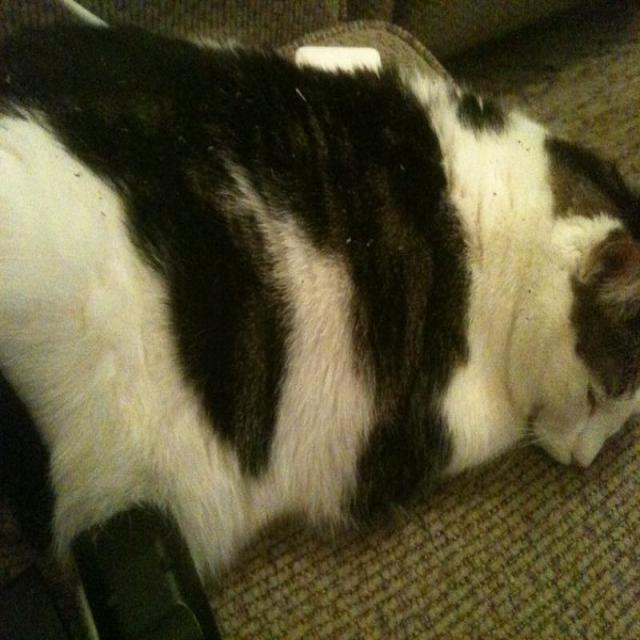cat: (5, 19, 640, 597)
